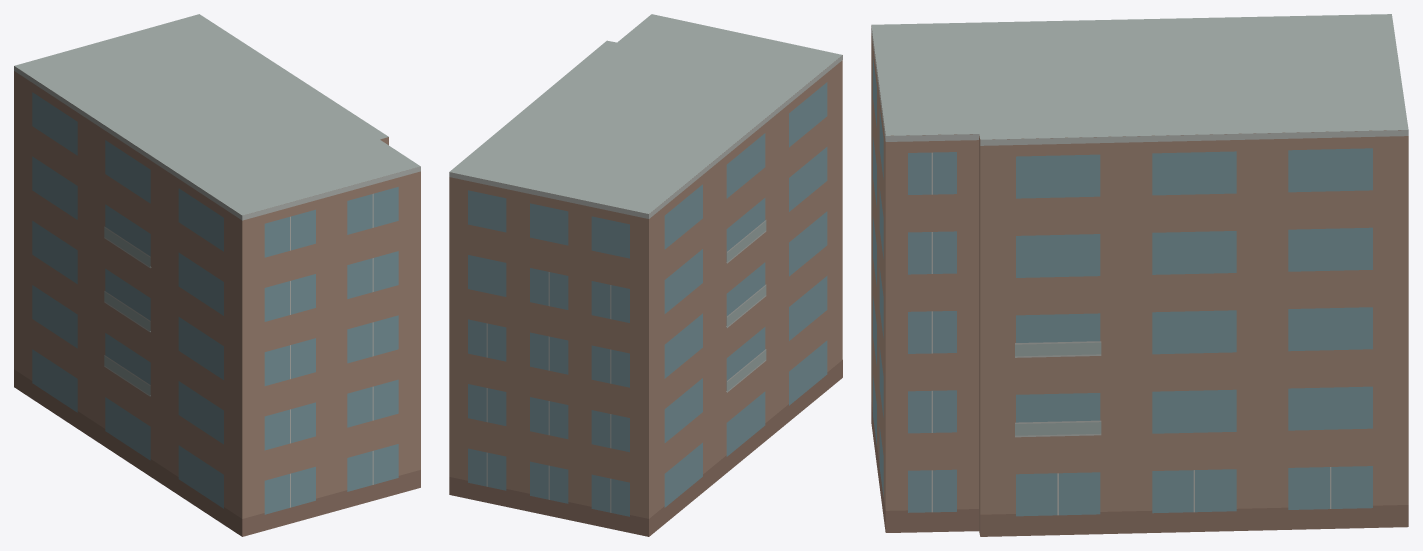
The model's file is survey-upis-33005125.glb.
3 renders of one model, left to right at view 1: azimuth 30°, elevation 25°; view 2: azimuth 150°, elevation 25°; view 3: azimuth 270°, elevation 25°, orthographic. The views are drawn at different scales.
Visible parts, largest first — view 1: survey-upis-33005125.tmp; view 2: survey-upis-33005125.tmp; view 3: survey-upis-33005125.tmp.
Boxes of the visible parts, x1,y1,x2,y2 form: survey-upis-33005125.tmp: (14,14,420,536); survey-upis-33005125.tmp: (449,14,842,536); survey-upis-33005125.tmp: (871,14,1408,536).
Size of the model in its own units: 10.67 by 15.7 by 19.26.
